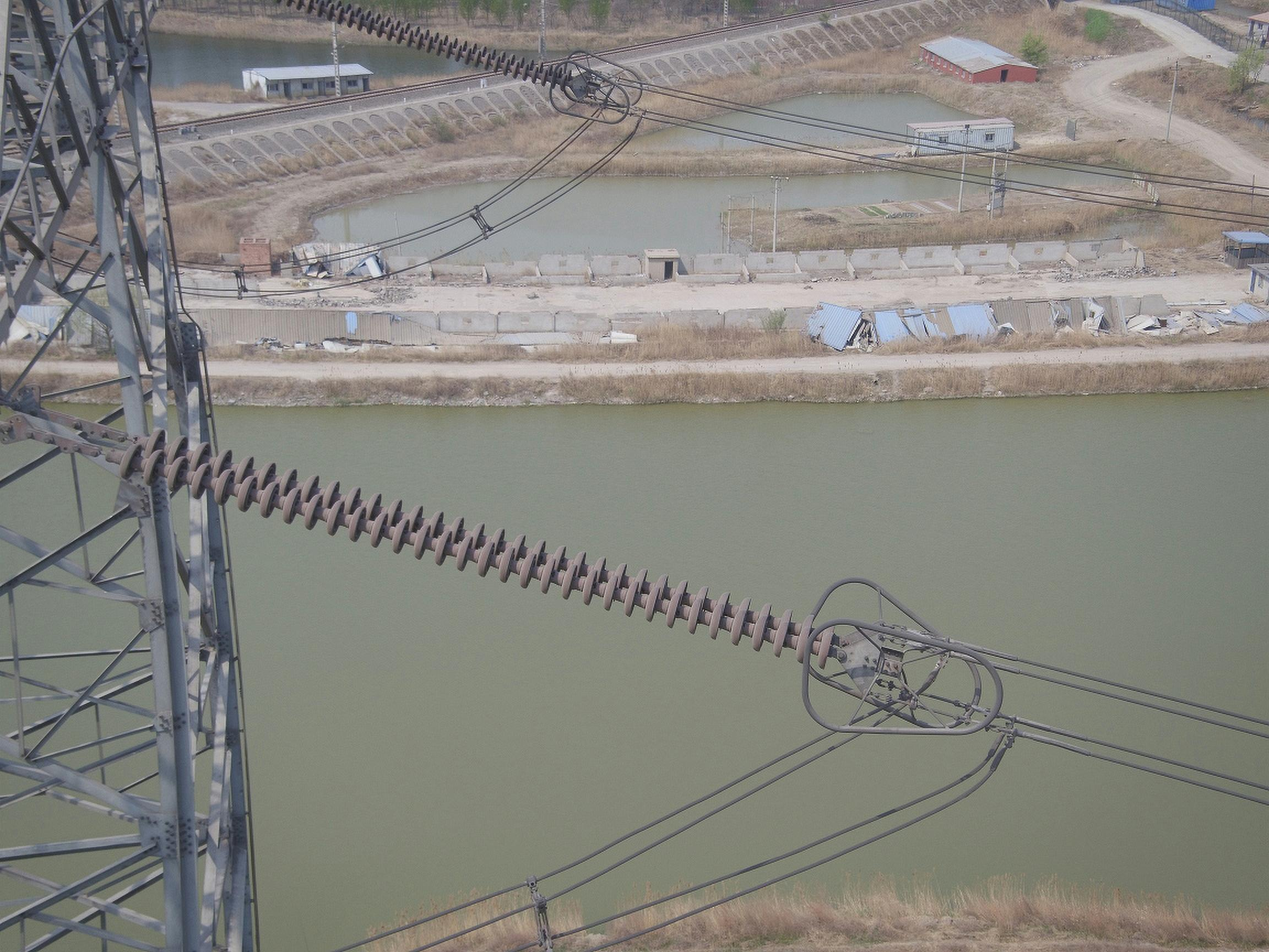insulator: (114, 426, 842, 674), (274, 1, 575, 94)
